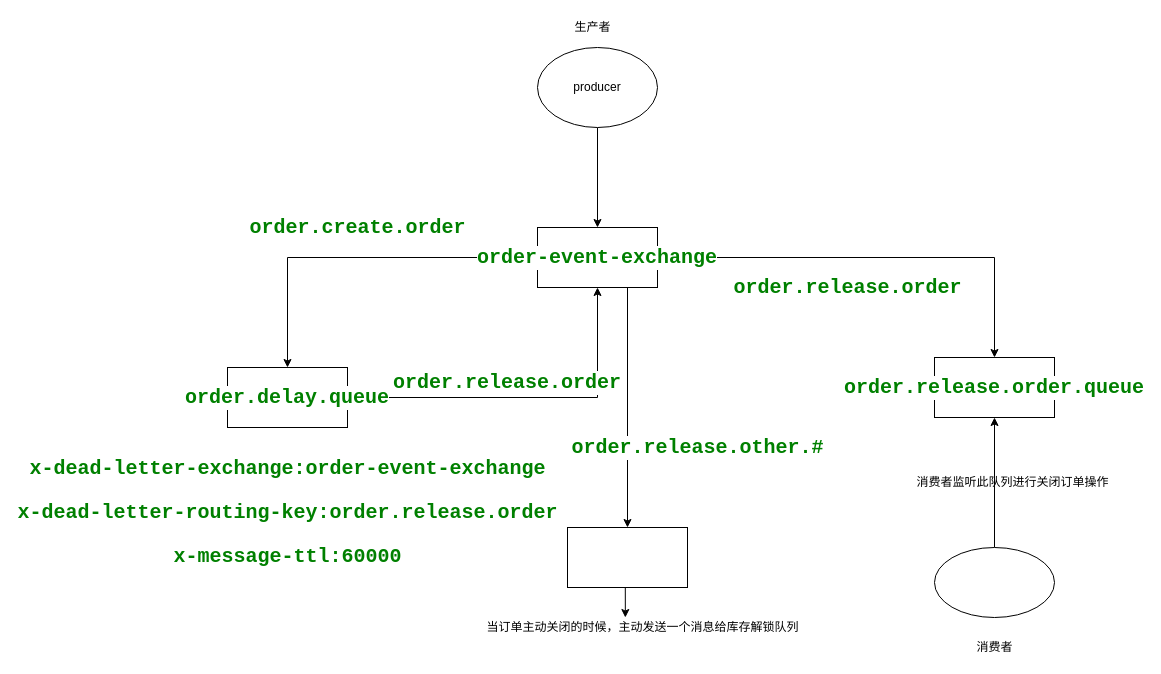
Image size: 1161x674. Some labels were removed from this diagram. Here are the shapes that lost their labels. From the top down, the box of each, then its label:
(566, 526, 688, 588): stock.release.stock.queue
(934, 546, 1054, 618): consume
